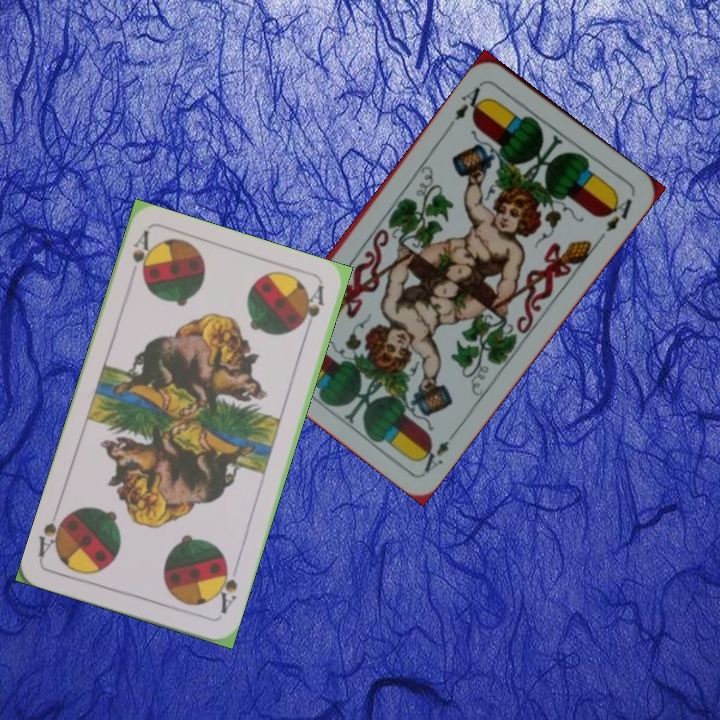EA: (413, 424, 461, 476), (450, 78, 490, 123)
SA: (212, 558, 240, 617), (128, 227, 156, 282)
